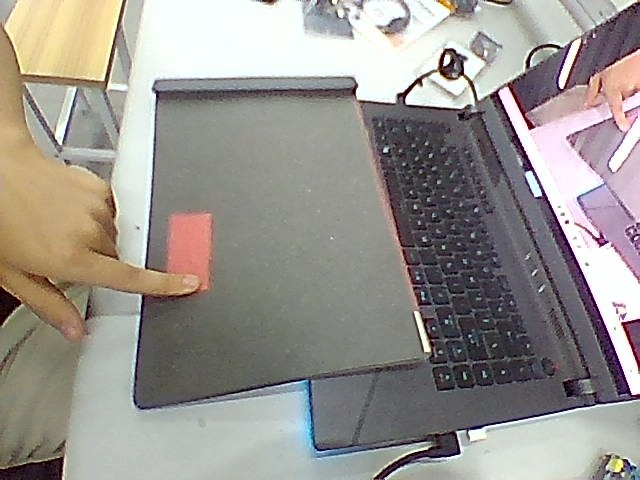card: (168, 212, 212, 291)
